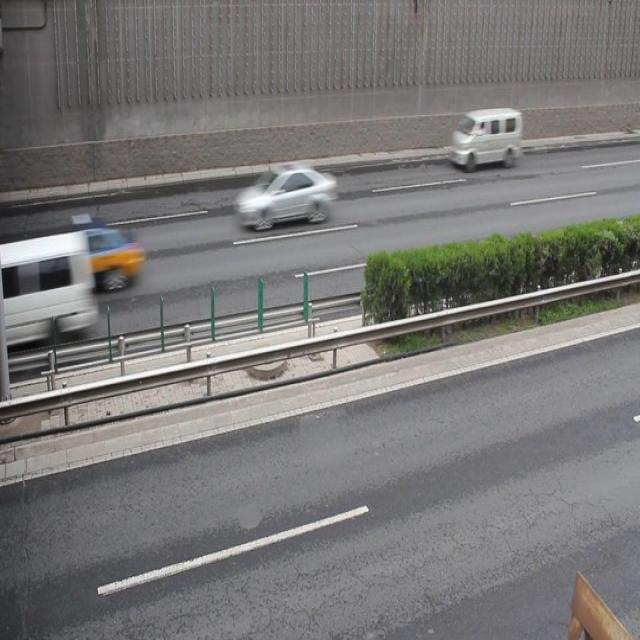car: (234, 159, 335, 232), (45, 219, 145, 292)
truck: (1, 230, 95, 352), (448, 107, 522, 170)
